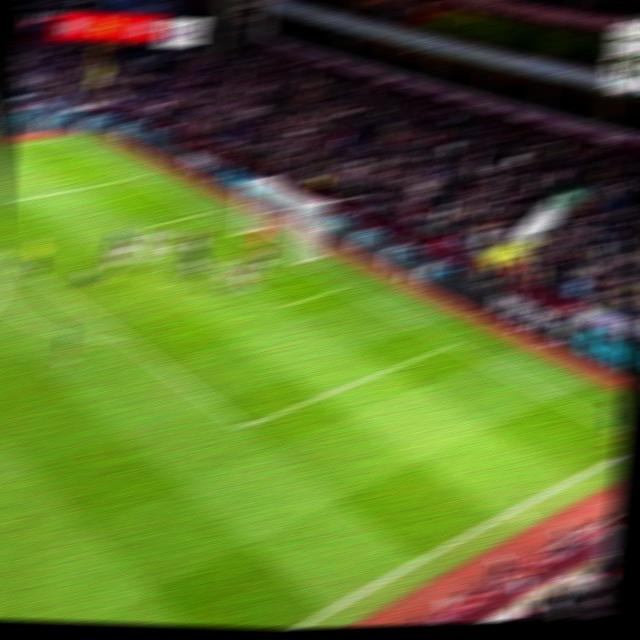bigarea_bottom_inner: (228, 412, 259, 439)
bigarea_bottom_outter: (439, 335, 463, 353)
bigarea_top_outter: (121, 170, 144, 184)
bottom_arc_area_intersection: (113, 328, 140, 350)
corner: (48, 131, 72, 144)
smallarea_bottom_inner: (270, 293, 297, 316)
smallarea_bottom_outter: (326, 275, 354, 296)
smallarea_top_inner: (133, 218, 157, 233)
smallarea_top_outter: (189, 204, 212, 222)
top_arc_area_intersection: (6, 254, 30, 272)
